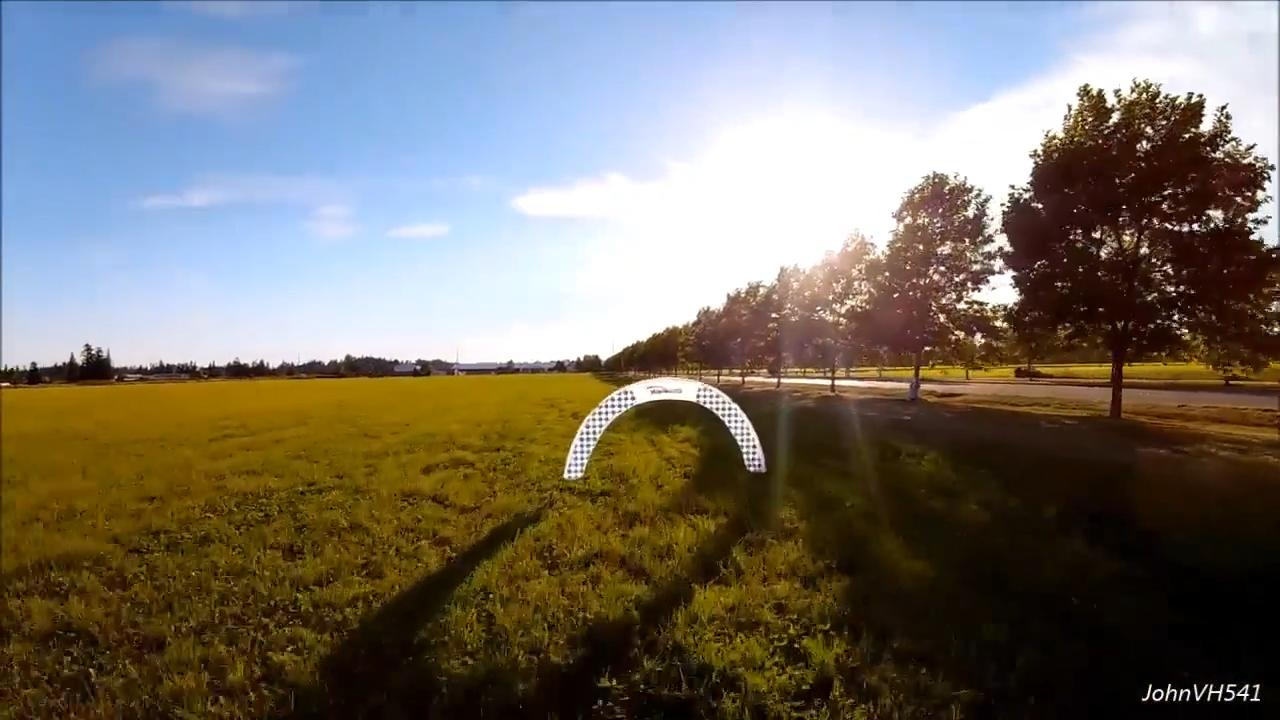gate: (565, 376, 768, 485)
